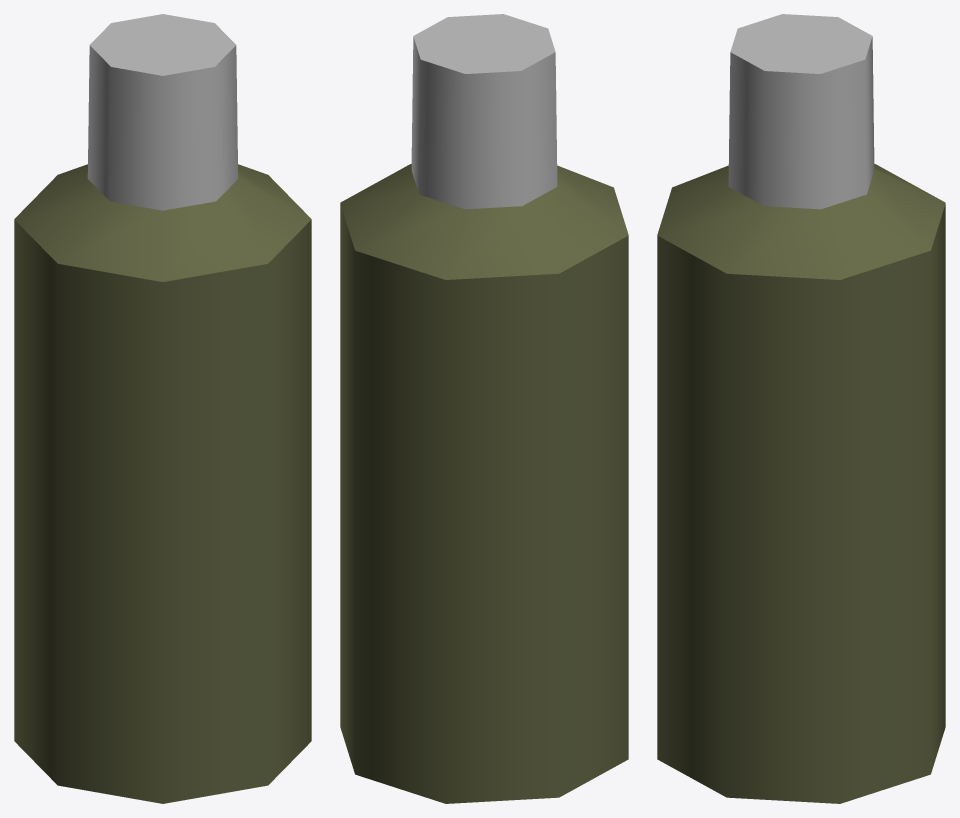
File: Food-Condiment-Oil_01.fbx
3 views of the same model, side by side, from view 1: azimuth 30°, elevation 25°; view 2: azimuth 150°, elevation 25°; view 3: azimuth 270°, elevation 25° (orthographic).
Parts seen in each view (by area): view 1: Food-Condiment-Oil_01; view 2: Food-Condiment-Oil_01; view 3: Food-Condiment-Oil_01.
Part boxes in pixels (x1,y1,x2,y2): Food-Condiment-Oil_01: (14,14,311,803); Food-Condiment-Oil_01: (340,14,628,803); Food-Condiment-Oil_01: (657,14,945,803).
Size of the model in its own units: 0.0968 by 0.2586 by 0.0968.
